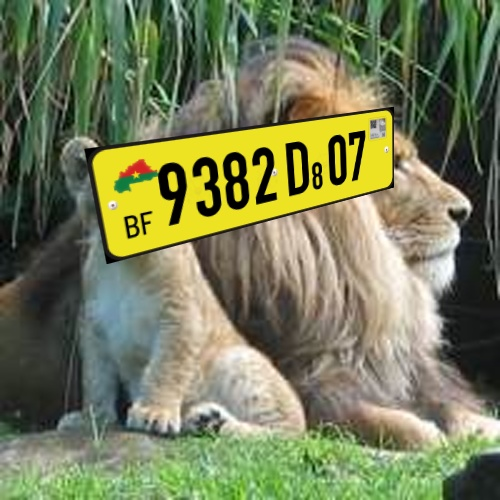plate: (71, 95, 412, 264)
